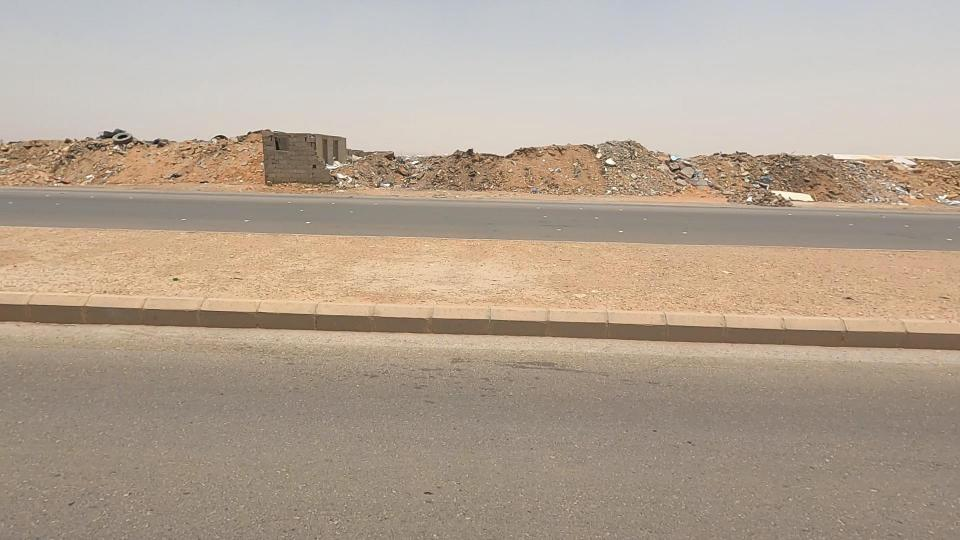CLUTTER_SIDEWALK: (283, 184, 786, 349), (0, 189, 485, 333), (603, 207, 959, 362)
GARBAGE: (638, 130, 736, 213), (731, 162, 836, 227), (20, 114, 101, 197), (575, 132, 663, 199), (58, 144, 134, 216), (353, 158, 429, 223), (76, 106, 151, 168), (304, 137, 370, 205), (850, 159, 928, 216), (378, 141, 444, 189), (194, 119, 243, 160), (130, 120, 179, 159)
